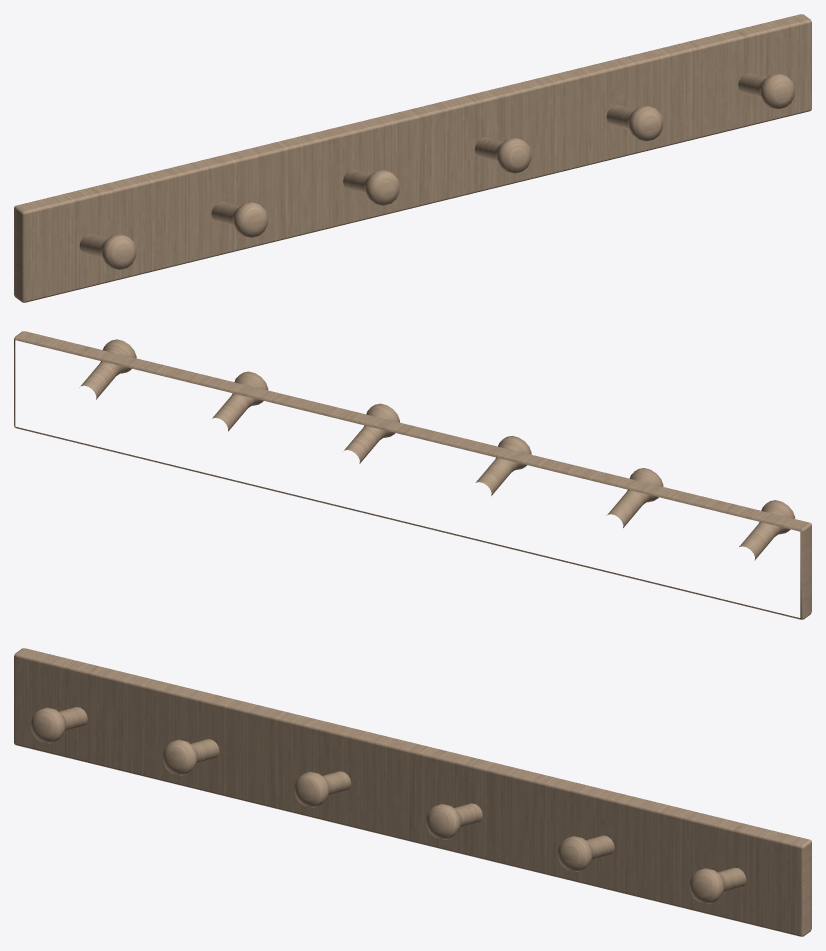
File: coat_rack.glb
3 views of the same model, one above another, from view 1: azimuth 30°, elevation 25°; view 2: azimuth 150°, elevation 25°; view 3: azimuth 330°, elevation 25° (orthographic).
Visible parts, largest first — view 1: coat_rack; view 2: coat_rack; view 3: coat_rack.
Part boxes in pixels (x1,y1,x2,y2): coat_rack: (14, 14, 811, 302); coat_rack: (14, 331, 811, 619); coat_rack: (14, 648, 811, 936).
Bounding box in the file's own units: 0.9 × 0.1 × 0.0919.
1 material, 1 textured.
